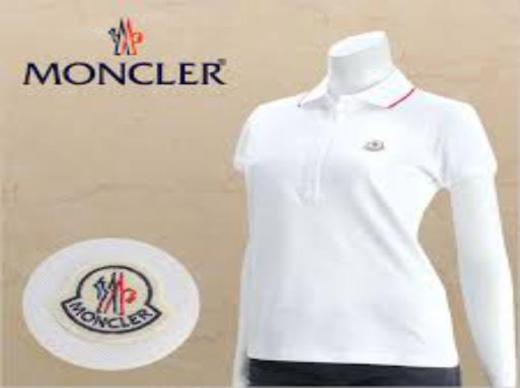MONCLER: (23, 56, 228, 88), (92, 272, 138, 318), (109, 15, 143, 57)
